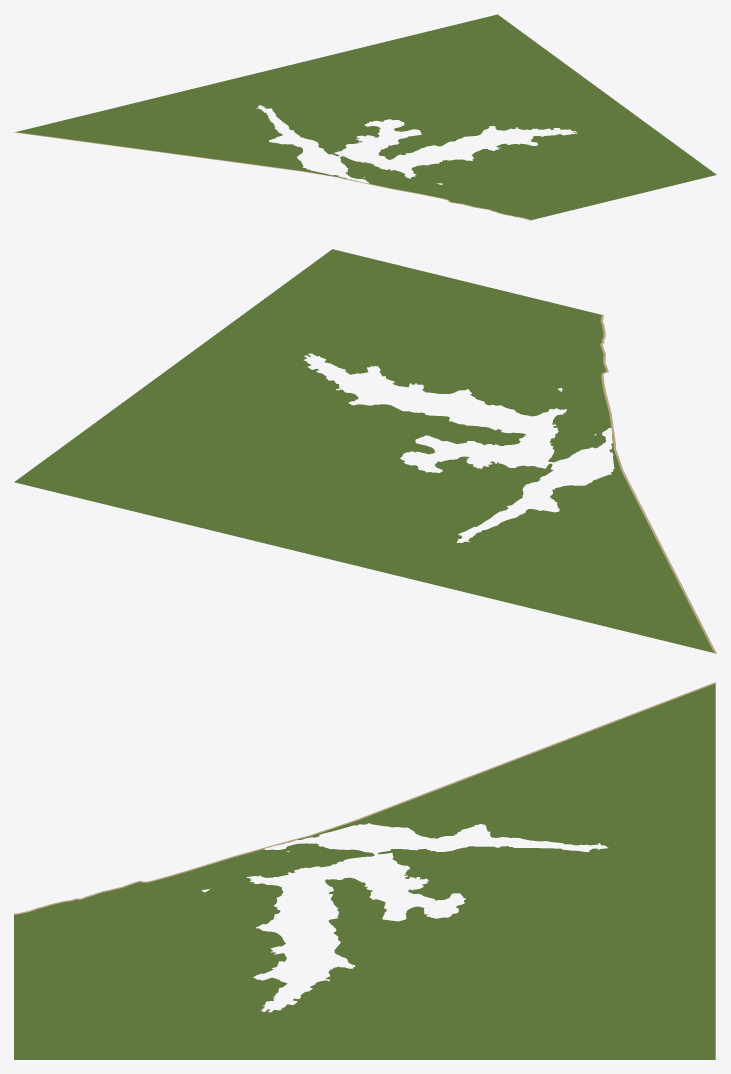
Rendered from Course_Terrain.glb.
3 renders of one model, top to bottom at view 1: azimuth 30°, elevation 25°; view 2: azimuth 150°, elevation 25°; view 3: azimuth 270°, elevation 25°, orthographic. The views are drawn at different scales.
Visible parts, largest first — view 1: Course_Terrain_Course_TropicalGround, Course_Terrain_Course_GoldenSand; view 2: Course_Terrain_Course_TropicalGround, Course_Terrain_Course_GoldenSand; view 3: Course_Terrain_Course_TropicalGround, Course_Terrain_Course_GoldenSand.
Boxes of the visible parts, left/top/right/bottom form: Course_Terrain_Course_TropicalGround: left=16, top=14, right=716, bottom=220; Course_Terrain_Course_GoldenSand: left=14, top=132, right=530, bottom=220; Course_Terrain_Course_TropicalGround: left=14, top=249, right=713, bottom=652; Course_Terrain_Course_GoldenSand: left=600, top=315, right=716, bottom=653; Course_Terrain_Course_TropicalGround: left=14, top=683, right=715, bottom=1059; Course_Terrain_Course_GoldenSand: left=14, top=682, right=716, bottom=914.
Bounding box in the file's own units: 9738 × 0.075 × 7660.
